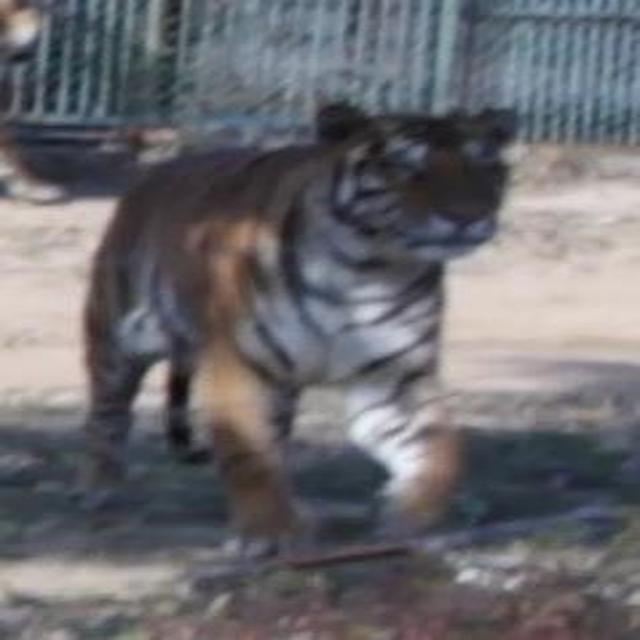tiger: (75, 97, 521, 561), (0, 0, 184, 202)
